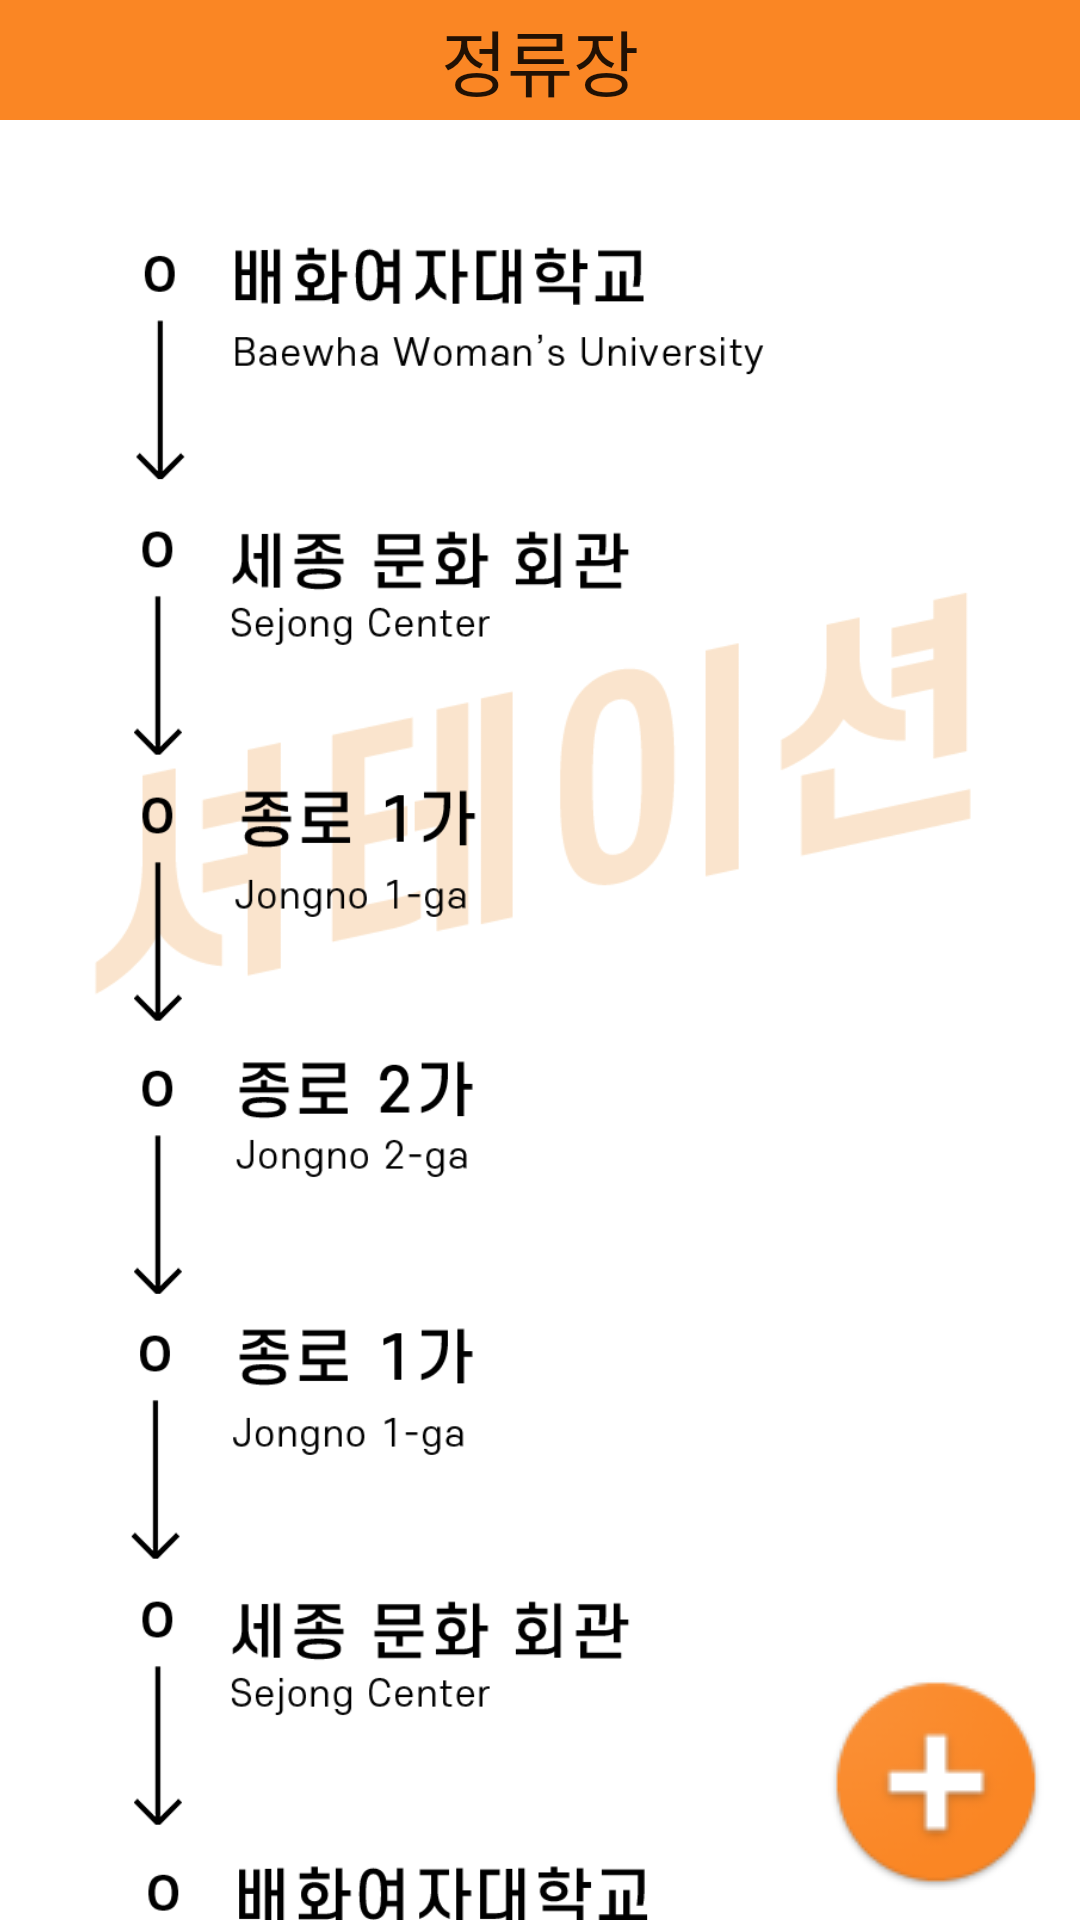

Named icons in this screenshot (1080px x 1920px) and their centers, (x,y):
plus: (936,1784)
